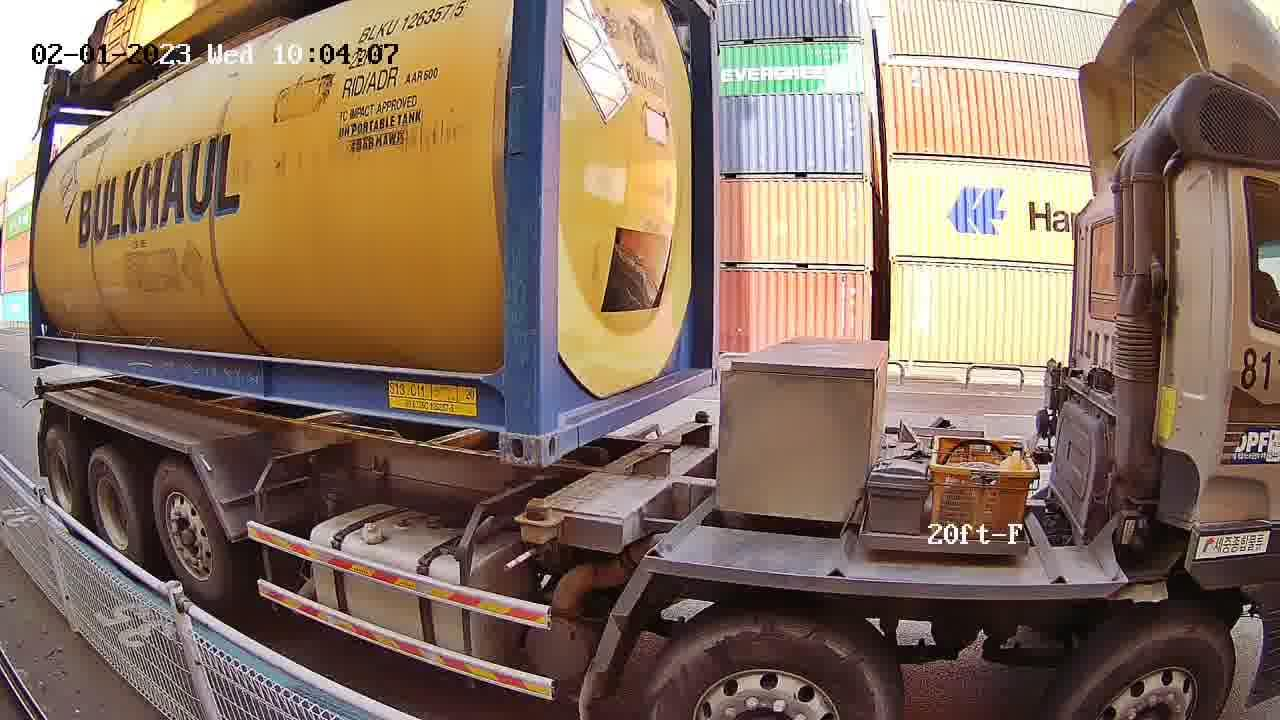Chassis: (513, 420, 711, 528)
Cone: (516, 496, 555, 557), (690, 407, 711, 445)
Hole_L: (540, 376, 592, 470)
Hole_R: (466, 384, 539, 467), (694, 348, 722, 388)
Tire: (153, 463, 228, 603), (87, 449, 141, 565), (44, 431, 82, 529)
